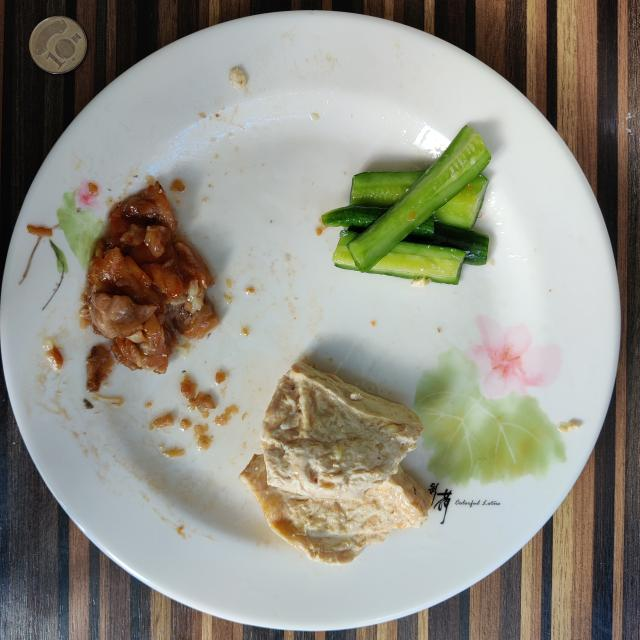Kabayaki sea bream fillet: (81, 184, 219, 372)
coin: (29, 16, 88, 74)
cucumber: (322, 126, 490, 284)
